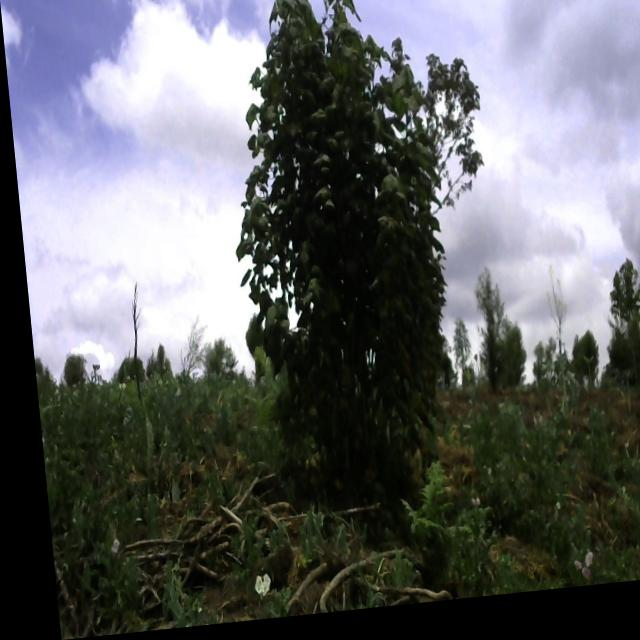other: (210, 0, 459, 512), (387, 34, 494, 260), (458, 275, 511, 401), (590, 268, 640, 387)
